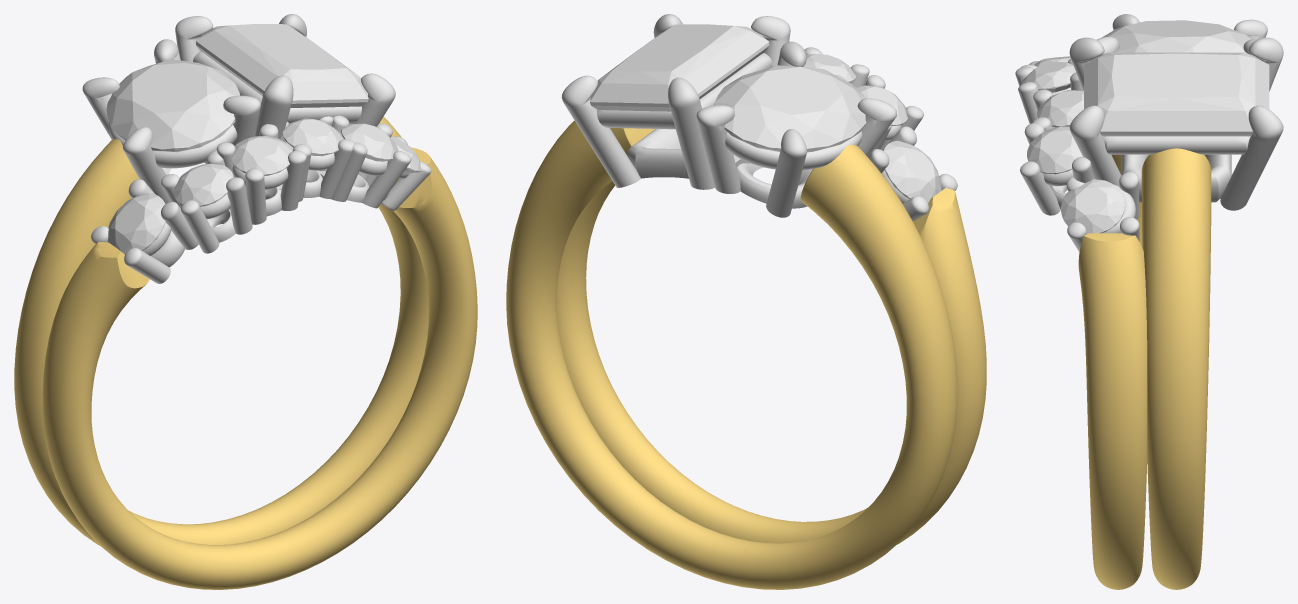
The model's file is ZackBOTHygpt_blender.glb.
3 renders of one model, left to right at view 1: azimuth 30°, elevation 25°; view 2: azimuth 150°, elevation 25°; view 3: azimuth 270°, elevation 25°, orthographic. The views are drawn at different scales.
Parts seen in each view (by area): view 1: Zach YG for 3d model, Zack eng YG for 3d model, Zach PT for 3d model, Zack eng PT for 3d model, Zack eng dia for 3d model, Zack eng dia for 3d model.001, Zach dia for 3d model.002, Zach dia for 3d model.001, Zach dia for 3d model.003, Zach dia for 3d model.004, Zach dia for 3d model.005; view 2: Zack eng YG for 3d model, Zach YG for 3d model, Zack eng PT for 3d model, Zack eng dia for 3d model, Zack eng dia for 3d model.001, Zach PT for 3d model, Zach dia for 3d model.002, Zach dia for 3d model.003, Zach dia for 3d model.001; view 3: Zack eng YG for 3d model, Zach YG for 3d model, Zack eng dia for 3d model.001, Zack eng PT for 3d model, Zach PT for 3d model, Zack eng dia for 3d model, Zach dia for 3d model, Zach dia for 3d model.005, Zach dia for 3d model.004, Zach dia for 3d model.003.
Boxes of the visible parts, x1,y1,x2,y2 form: Zach YG for 3d model: (42, 147, 477, 589); Zack eng YG for 3d model: (14, 116, 428, 545); Zach PT for 3d model: (91, 115, 431, 283); Zack eng PT for 3d model: (82, 14, 395, 203); Zack eng dia for 3d model: (106, 59, 239, 152); Zack eng dia for 3d model.001: (196, 24, 368, 107); Zach dia for 3d model.002: (107, 193, 165, 254); Zach dia for 3d model.001: (173, 163, 233, 206); Zach dia for 3d model.003: (230, 136, 292, 175); Zach dia for 3d model.004: (282, 118, 343, 156); Zach dia for 3d model.005: (341, 123, 398, 161); Zack eng YG for 3d model: (506, 120, 957, 589); Zach YG for 3d model: (556, 181, 986, 544); Zack eng PT for 3d model: (561, 14, 896, 217); Zack eng dia for 3d model: (714, 65, 866, 152); Zack eng dia for 3d model.001: (590, 24, 769, 111); Zach PT for 3d model: (804, 47, 957, 221); Zach dia for 3d model.002: (883, 141, 941, 202); Zach dia for 3d model.003: (803, 53, 856, 82); Zach dia for 3d model.001: (855, 85, 907, 126); Zack eng YG for 3d model: (1141, 148, 1211, 589); Zach YG for 3d model: (1078, 154, 1147, 589); Zack eng dia for 3d model.001: (1084, 52, 1269, 136); Zack eng PT for 3d model: (1069, 14, 1283, 210); Zach PT for 3d model: (1015, 58, 1139, 252); Zack eng dia for 3d model: (1102, 20, 1251, 52); Zach dia for 3d model: (1061, 179, 1124, 234); Zach dia for 3d model.005: (1027, 126, 1082, 174); Zach dia for 3d model.004: (1037, 90, 1083, 127); Zach dia for 3d model.003: (1021, 61, 1075, 92).
Size of the model in its own units: 19.7 by 22.69 by 10.39.
